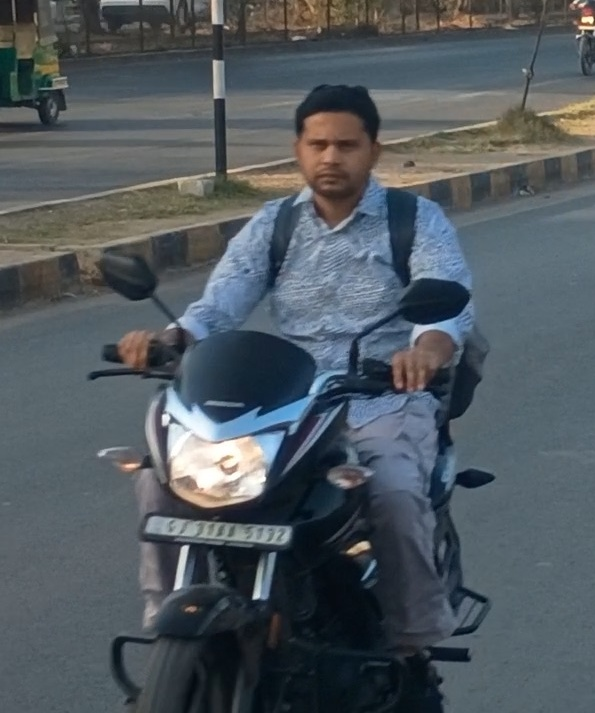BikeWithRider: (76, 79, 506, 713)
NoHelmet: (284, 78, 386, 207)
